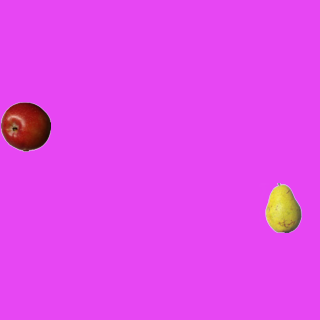Apple Braeburn: (0, 101, 50, 151)
Pear Monster: (258, 182, 308, 232)
